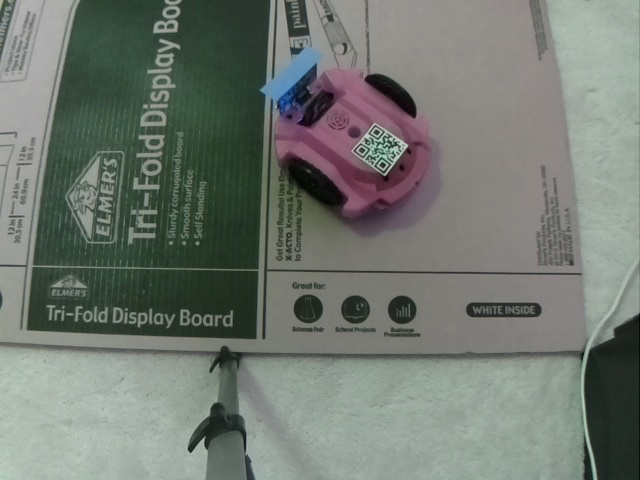chassis: (256, 44, 430, 227)
qr: (350, 119, 410, 177)
